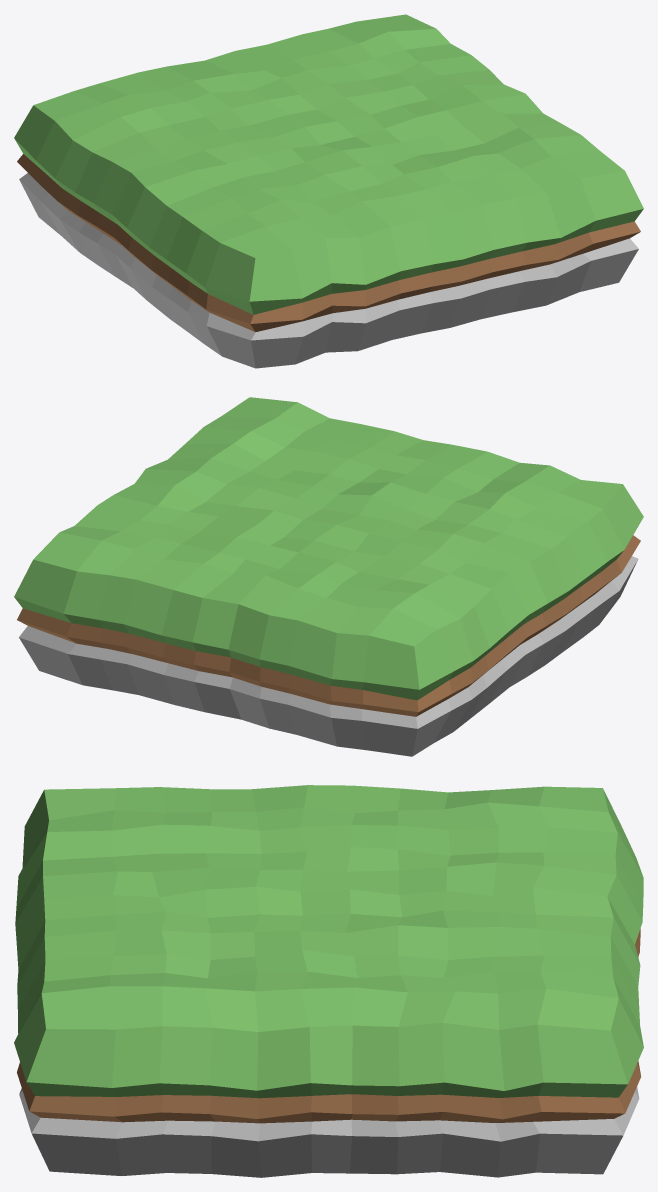
File: groundscene.fbx
3 views of the same model, one above another, from view 1: azimuth 30°, elevation 25°; view 2: azimuth 150°, elevation 25°; view 3: azimuth 270°, elevation 25° (orthographic). The views are drawn at different scales.
Parts seen in each view (by area): view 1: Plane; view 2: Plane; view 3: Plane.
Part boxes in pixels (x1=…): Plane: x1=14, y1=14, x2=643, y2=368; Plane: x1=14, y1=397, x2=643, y2=756; Plane: x1=14, y1=785, x2=643, y2=1177.
Bounding box in the file's own units: 717 × 223 × 722.
